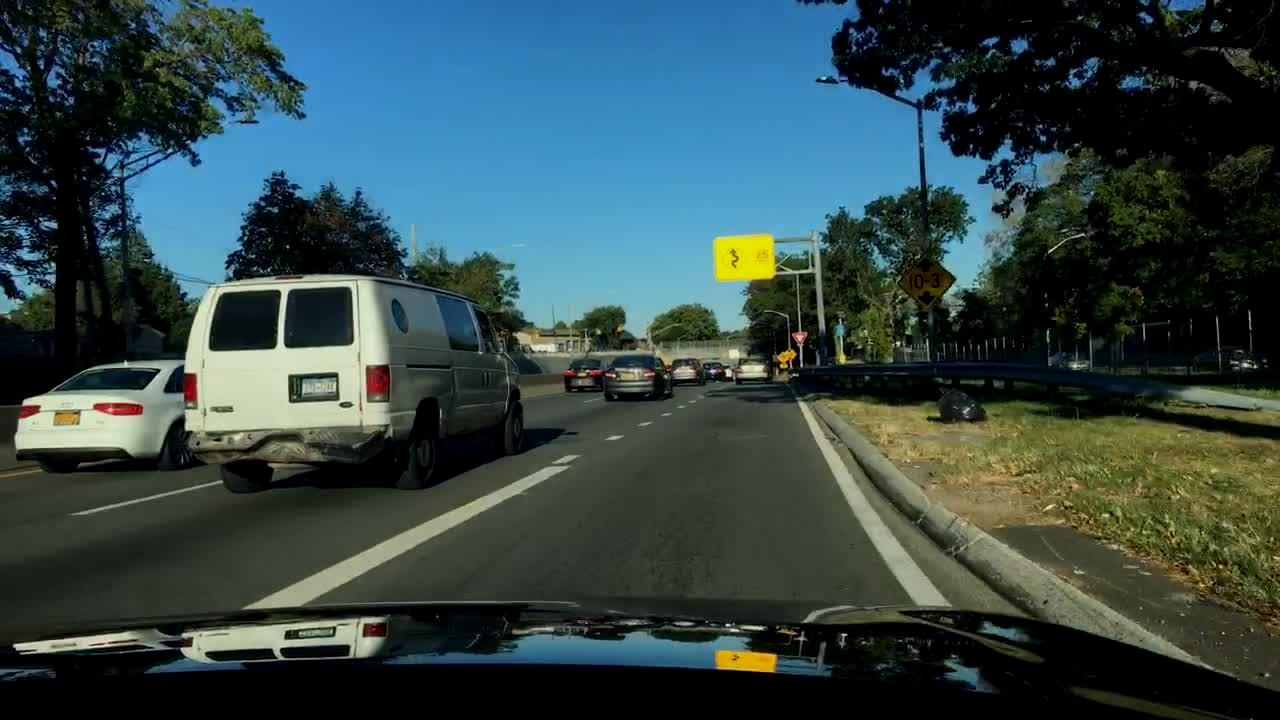Audi: (55, 396, 78, 409)
